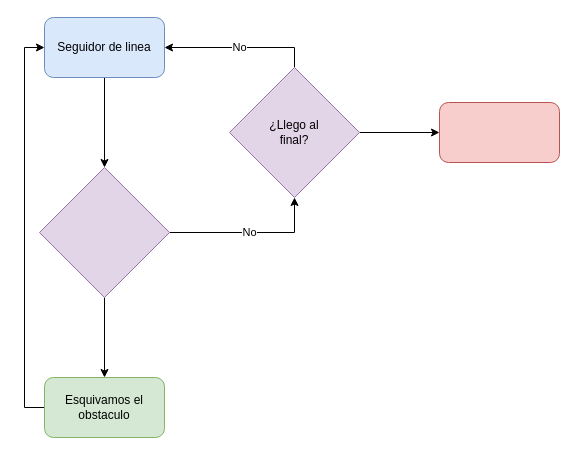
Some shapes in this 577 by 455 pixel diagram are drawn without their labels. Here are the shapes that lost their labels. From the top down, the centre of each, then its label:
(x=499, y=132): Terminamos
(x=104, y=232): ¿Hay un obstaculo en frente?
